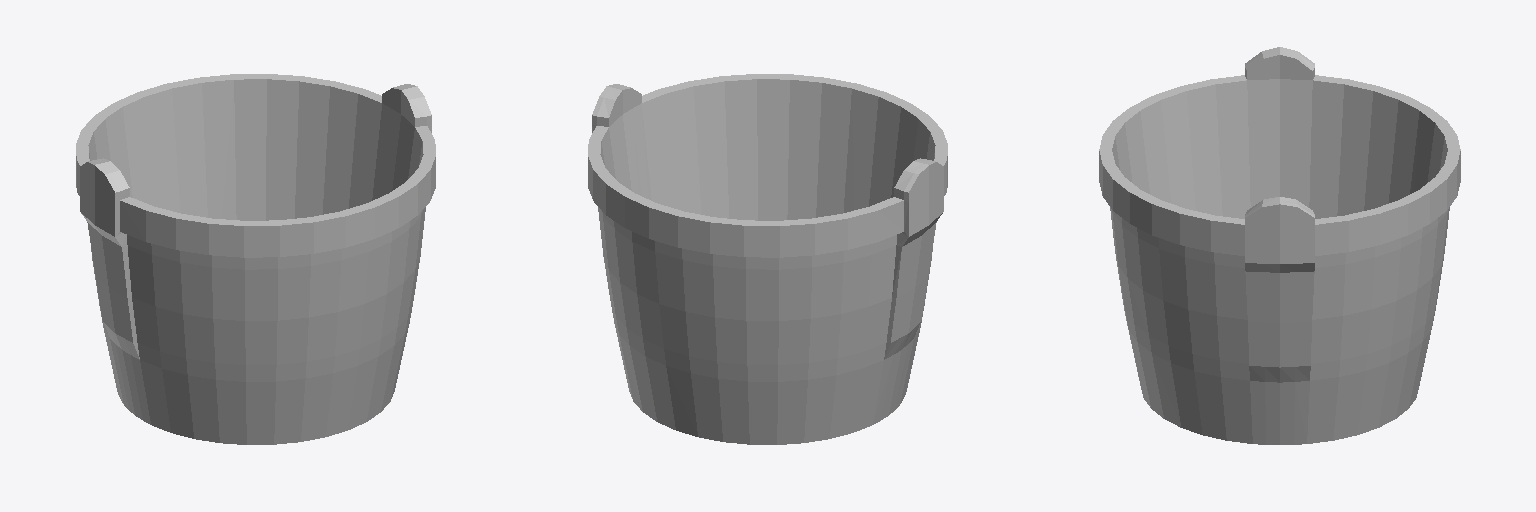
The model's file is OreBucket_GB.obj.
The picture shows the model from 3 angles: view 1: azimuth 30°, elevation 25°; view 2: azimuth 150°, elevation 25°; view 3: azimuth 270°, elevation 25°; orthographic projection.
Visible parts, largest first — view 1: Cylinder; view 2: Cylinder; view 3: Cylinder.
Part boxes in pixels (x1,y1,x2,y2): Cylinder: (76,74,435,444); Cylinder: (588,74,947,444); Cylinder: (1099,47,1460,444).
Bounding box in the file's own units: 4.29 × 3.31 × 4.16.